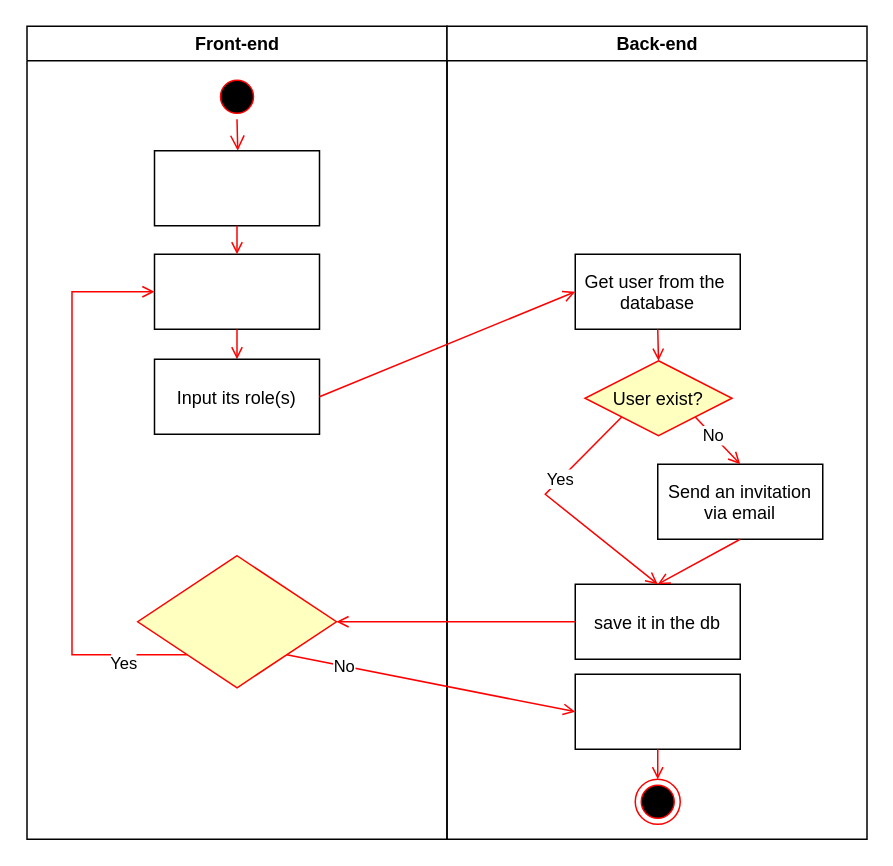
Image size: 893x866. Some labels were removed from this diagram. Here are the shapes that lost their labels. From the top down, the centre of each, then its label:
the point at 236,187: Select a project
the point at 236,291: Add email
the point at 236,621: More user to add to the project?
the point at 657,711: Add the project to the added users account
